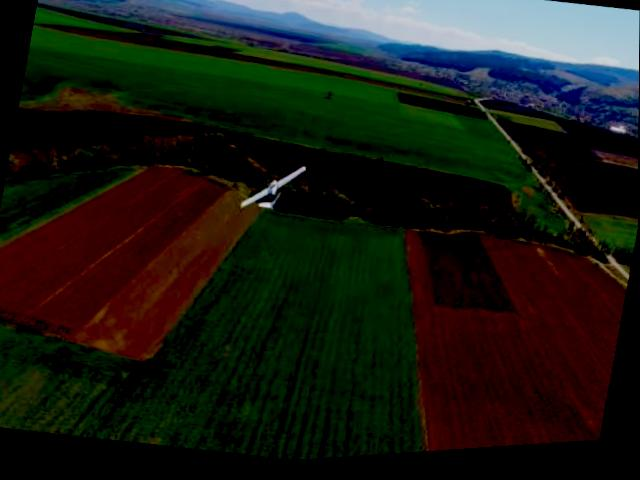uav: (235, 150, 314, 232)
